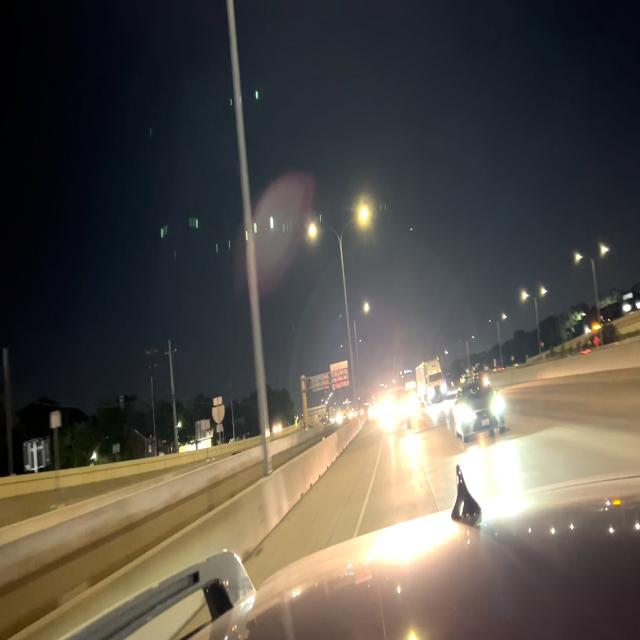back-of-sign: (311, 359, 350, 393), (211, 393, 226, 434)
